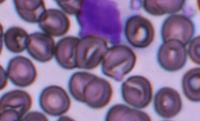M: (76, 0, 123, 43)
